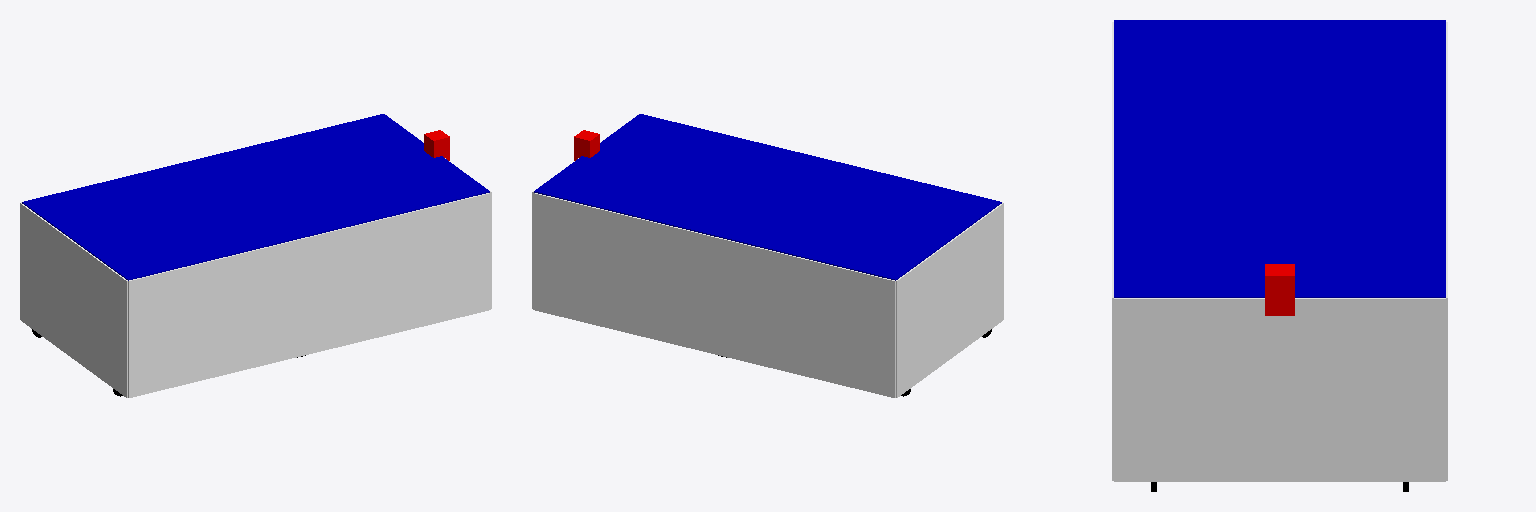
robot.urdf — deltarobot:
<?xml version="1.0"?>
  <robot name="deltarobot">

   <link name="base_link">
     <visual>
       <geometry>
         <box size="1.3 0.66 0.01"/>
       </geometry>
       <origin rpy="0 0 0" xyz="0 0 0.18"/>
       <material name="blue">
         <color rgba="0 0 0.8 1"/>
       </material>
     </visual>
   </link>

   <link name="upon_deck">
     <visual>
       <geometry>
         <box size="1.3 0.66 0.01"/>
       </geometry>
       <origin rpy="0 0 0" xyz="0 0 0.43"/>
       <material name="blue">
         <color rgba="0 0 0.8 1"/>
       </material>
     </visual>
   </link>
<!--
   <link name="perception_deck">
     <visual>
       <geometry>
         <box size="0.9 0.5 0.01"/>
       </geometry>
       <origin rpy="0 0 0" xyz="0 0 0.46"/>
       <material name="blue">
         <color rgba="0 0 0.8 1"/>
       </material>
     </visual>
   </link>
-->
   <link name="wheel_left">
     <visual>
       <geometry>
         <cylinder length="0.03" radius="0.08"/>
       </geometry>
       <origin rpy="1.57 0 0" xyz="0.0 0.27 0.08"/>
       <material name="black">
         <color rgba="0 0 0 1"/>
       </material>
     </visual>
   </link>

   <link name="wheel_right">
     <visual>
       <geometry>
         <cylinder length="0.03" radius="0.08"/>
       </geometry>
       <origin rpy="1.57 0 0" xyz="0.0 -0.27 0.08"/>
       <material name="black">
         <color rgba="0 0 0 1"/>
       </material>
     </visual>
   </link>

   <link name="wheel_track">
     <visual>
       <geometry>
         <box size="0.04 0.231 0.002"/>
       </geometry>
       <origin rpy="0 0 0" xyz="-0.005 0.0 0.06"/>
       <material name="white"/>
     </visual>
   </link>

   <link name="caster_wheel_right_one">
     <visual>
       <geometry>
         <cylinder length="0.012" radius="0.025"/>
       </geometry>
       <origin rpy="1.57 0 0" xyz="-0.630 0.25 0.025"/>
       <material name="black">
         <color rgba="0 0 0 1"/>
       </material>
     </visual>
   </link>

   <link name="caster_wheel_right_two">
     <visual>
       <geometry>
         <cylinder length="0.012" radius="0.025"/>
       </geometry>
       <origin rpy="1.57 0 0" xyz="0.630 0.25 0.025"/>
       <material name="black">
         <color rgba="0 0 0 1"/>
       </material>
     </visual>
   </link>

   <link name="caster_wheel_left_one">
     <visual>
       <geometry>
         <cylinder length="0.012" radius="0.025"/>
       </geometry>
       <origin rpy="1.57 0 0" xyz="-0.630 -0.25 0.025"/>
       <material name="black">
         <color rgba="0 0 0 1"/>
       </material>
     </visual>
   </link>

   <link name="caster_wheel_left_two">
     <visual>
       <geometry>
         <cylinder length="0.012" radius="0.025"/>
       </geometry>
       <origin rpy="1.57 0 0" xyz="0.630 -0.25 0.025"/>
       <material name="black">
         <color rgba="0 0 0 1"/>
       </material>
     </visual>
   </link>

   <link name="front">
     <visual>
       <geometry>
         <box size="0.06 0.06 0.086"/>
       </geometry>
       <material name="red">
         <color rgba="255 0 0 0.8"/>
       </material>
     </visual>
   </link>
<!--
  <link name="base_to_laser_front">
    <visual>
      <origin xyz="0 0 0" />
      <geometry>
        <cylinder length="0.05" radius="0.03" />
      </geometry>
      <material name="gray" />
    </visual>
  </link>

  <link name="base_to_laser_back">
    <visual>
      <origin xyz="0 0 0" />
      <geometry>
        <cylinder length="0.05" radius="0.03" />
      </geometry>
      <material name="gray" />
    </visual>
  </link>
-->

   <link name="left_cover_one">
     <visual>
       <geometry>
         <box size="0.01 0.66 0.4015"/>
       </geometry>
       <origin rpy="0 0 0" xyz="-0.650 0 0.23025"/>
       <material name="silver">
         <color rgba="192 192 192 0.6"/>
       </material>
     </visual>
   </link>

   <link name="left_cover_two">
     <visual>
       <geometry>
         <box size="1.3 0.01 0.4015"/>
       </geometry>
       <origin rpy="0 0 0" xyz="0.0 0.33 0.23025"/>
       <material name="silver">
         <color rgba="192 192 192 0.6"/>
       </material>
     </visual>
   </link>

   <link name="right_cover_one">
     <visual>
       <geometry>
         <box size="1.3 0.01 0.4015"/>
       </geometry>
       <origin rpy="0 0 0" xyz="0.0 -0.33 0.23025"/>
       <material name="silver">
         <color rgba="192 192 192 0.6"/>
       </material>
     </visual>
   </link>

   <link name="right_cover_two">
     <visual>
       <geometry>
         <box size="0.01 0.66 0.4015"/>
       </geometry>
       <origin rpy="0 0 0" xyz="0.650 0.0 0.23025"/>
       <material name="silver">
         <color rgba="192 192 192 0.6"/>
       </material>
     </visual>
   </link>

   <joint name="base_to_wheel_left" type="fixed">
     <parent link="base_link"/>
     <child link="wheel_left"/>
     <origin xyz="0 0 0"/>
   </joint>

   <joint name="base_to_wheel_right" type="fixed">
     <parent link="base_link"/>
     <child link="wheel_right"/>
     <origin xyz="0 0 0"/>
   </joint>

   <joint name="base_to_wheel_track" type="fixed">
     <parent link="base_link"/>
     <child link="wheel_track"/>
     <origin xyz="0 0 0"/>
   </joint>

   <joint name="base_to_caster_wheel_right_one" type="fixed">
     <parent link="base_link"/>
     <child link="caster_wheel_right_one"/>
     <origin xyz="0 0 0"/>
   </joint>

   <joint name="base_to_caster_wheel_right_two" type="fixed">
     <parent link="base_link"/>
     <child link="caster_wheel_right_two"/>
     <origin xyz="0 0 0"/>
   </joint>

   <joint name="base_to_caster_wheel_left_one" type="fixed">
     <parent link="base_link"/>
     <child link="caster_wheel_left_one"/>
     <origin xyz="0 0 0"/>
   </joint>

   <joint name="base_to_caster_wheel_left_two" type="fixed">
     <parent link="base_link"/>
     <child link="caster_wheel_left_two"/>
     <origin xyz="0 0 0"/>
   </joint>

   <!--joint name="laser" type="fixed">
     <parent link="base_link"/>
     <child link="laser"/>

     <origin rpy="0 0 0" xyz="-0.36 0.0 0.4740"/>
   </joint-->


   <joint name="base_to_front" type="fixed">
     <parent link="base_link"/>
     <child link="front"/>

     <origin rpy="0 0 0" xyz="0.65 0.0 0.45"/>
   </joint>

   <!--joint name="base_to_laser_back" type="fixed">
     <parent link="base_link"/>
     <child link="laser_back"/>

     <origin rpy="0 0 0" xyz="0.36 0.0 0.4740"/>
   </joint-->
 <!-- <joint name="base_to_laser_front" type="fixed">
    <parent link="base_link" />
    <child link="laser_front" />
    <origin rpy="3.14 0 0.785" xyz="0.61 -0.3 0.14" />
  </joint>

  <joint name="base_to_laser_back" type="fixed">
    <parent link="base_link" />
    <child link="laser_back" />
    <origin rpy="-3.14 0.0 -2.355" xyz="-0.61 0.3 0.14" />
  </joint>
-->
   <joint name="base_to_left_pole_one" type="fixed">
     <parent link="base_link"/>
     <child link="left_cover_one"/>
     <origin xyz="0 0 0"/>
   </joint>

   <joint name="base_to_left_pole_two" type="fixed">
     <parent link="base_link"/>
     <child link="left_cover_two"/>
     <origin xyz="0 0 0"/>
   </joint>

   <joint name="base_to_right_pole_one" type="fixed">
     <parent link="base_link"/>
     <child link="right_cover_one"/>
     <origin xyz="0 0 0"/>
   </joint>

   <joint name="base_to_right_pole_two" type="fixed">
     <parent link="base_link"/>
     <child link="right_cover_two"/>
     <origin xyz="0 0 0"/>
   </joint>
<!--
   <joint name="base_to_perception_deck" type="fixed">
     <parent link="base_link"/>
     <child link="perception_deck"/>
     <origin xyz="0 0 0"/>
   </joint>
-->

   <joint name="base_to_upon_deck" type="fixed">
     <parent link="base_link"/>
     <child link="upon_deck"/>
     <origin xyz="0 0 0"/>
   </joint>

 </robot>

--- Facts derived from the render (not from the file) ---
The picture shows the robot from 3 angles, left to right: view 1: azimuth 30°, elevation 25°; view 2: azimuth 150°, elevation 25°; view 3: azimuth 270°, elevation 25°; orthographic projection.
Model deltarobot with 14 links and 13 joints (13 fixed), rooted at base_link, posed every joint at zero.
Links seen in each view (by area): view 1: right_cover_one, upon_deck, left_cover_one, front; view 2: left_cover_two, upon_deck, left_cover_one, front; view 3: upon_deck, right_cover_two, front, left_cover_two, right_cover_one.
Link boxes in pixels (bbox=[...]): right_cover_one: bbox=[128, 193, 490, 397]; upon_deck: bbox=[22, 114, 489, 280]; left_cover_one: bbox=[20, 203, 127, 397]; front: bbox=[424, 130, 449, 160]; left_cover_two: bbox=[533, 193, 895, 397]; upon_deck: bbox=[534, 114, 1001, 280]; left_cover_one: bbox=[896, 203, 1003, 397]; front: bbox=[574, 130, 599, 160]; upon_deck: bbox=[1114, 20, 1445, 297]; right_cover_two: bbox=[1114, 298, 1445, 481]; front: bbox=[1265, 264, 1294, 315]; left_cover_two: bbox=[1446, 22, 1447, 480]; right_cover_one: bbox=[1112, 22, 1113, 480].
Size in the robot's own frame: 1.33 by 0.67 by 0.493 metres.
Geometry: primitives only (box / cylinder / sphere), no mesh files.